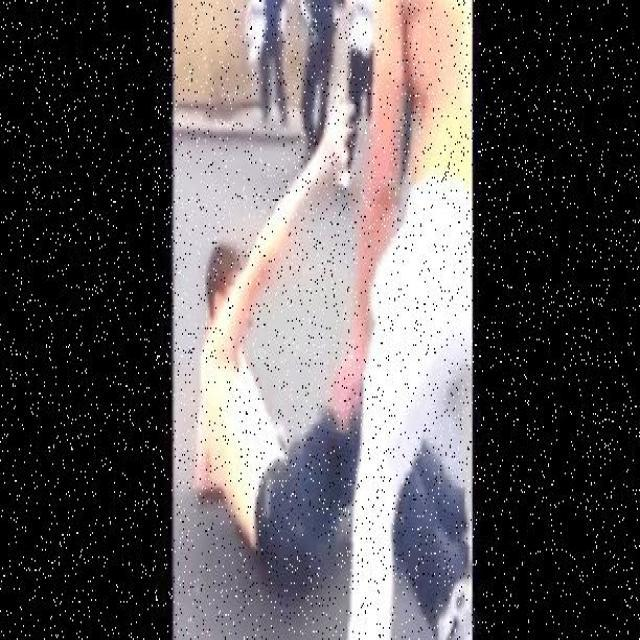fall: (204, 255, 466, 634)
